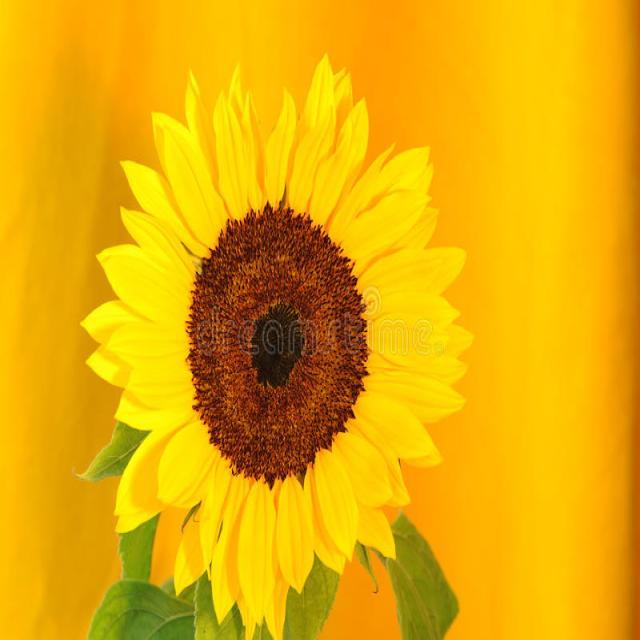sunflower: (71, 53, 489, 640)
